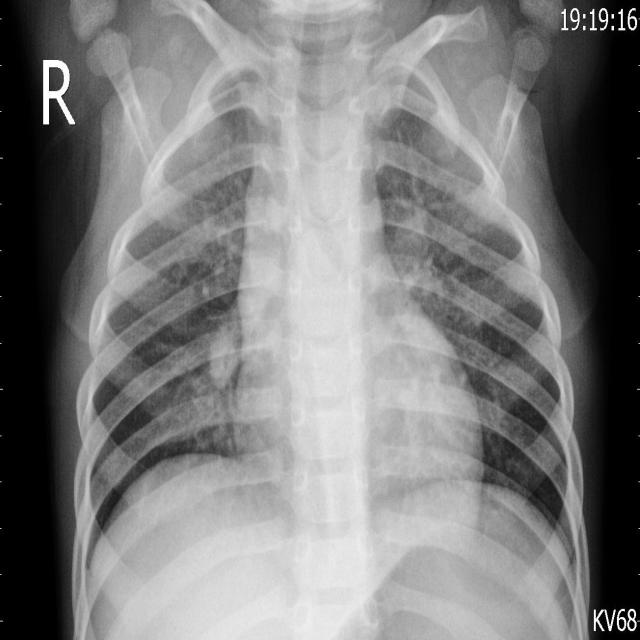low-pneumonia: (384, 184, 495, 332), (168, 139, 253, 267), (180, 318, 246, 447)
